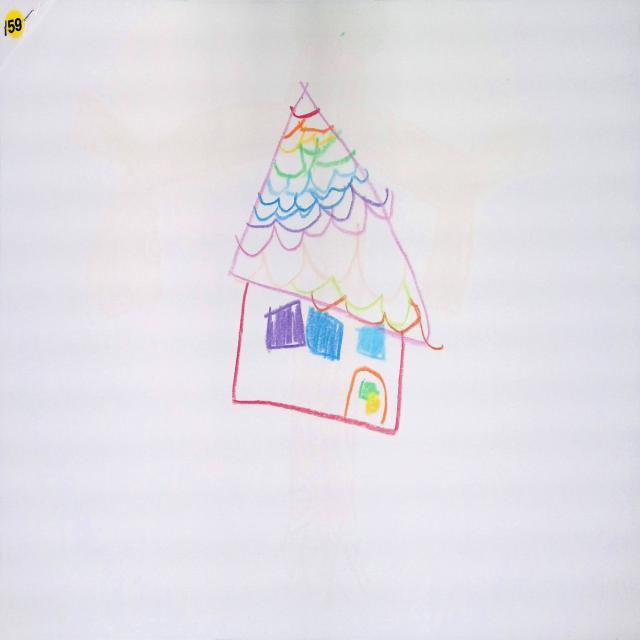door: (346, 370, 388, 426)
house: (231, 85, 437, 434)
roof: (227, 85, 436, 348)
wall: (231, 281, 405, 438)
window: (306, 308, 344, 361), (265, 301, 306, 350), (357, 328, 386, 360)
